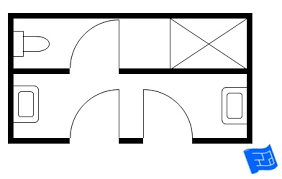door: (141, 86, 194, 148), (70, 86, 120, 148), (69, 19, 120, 76)
